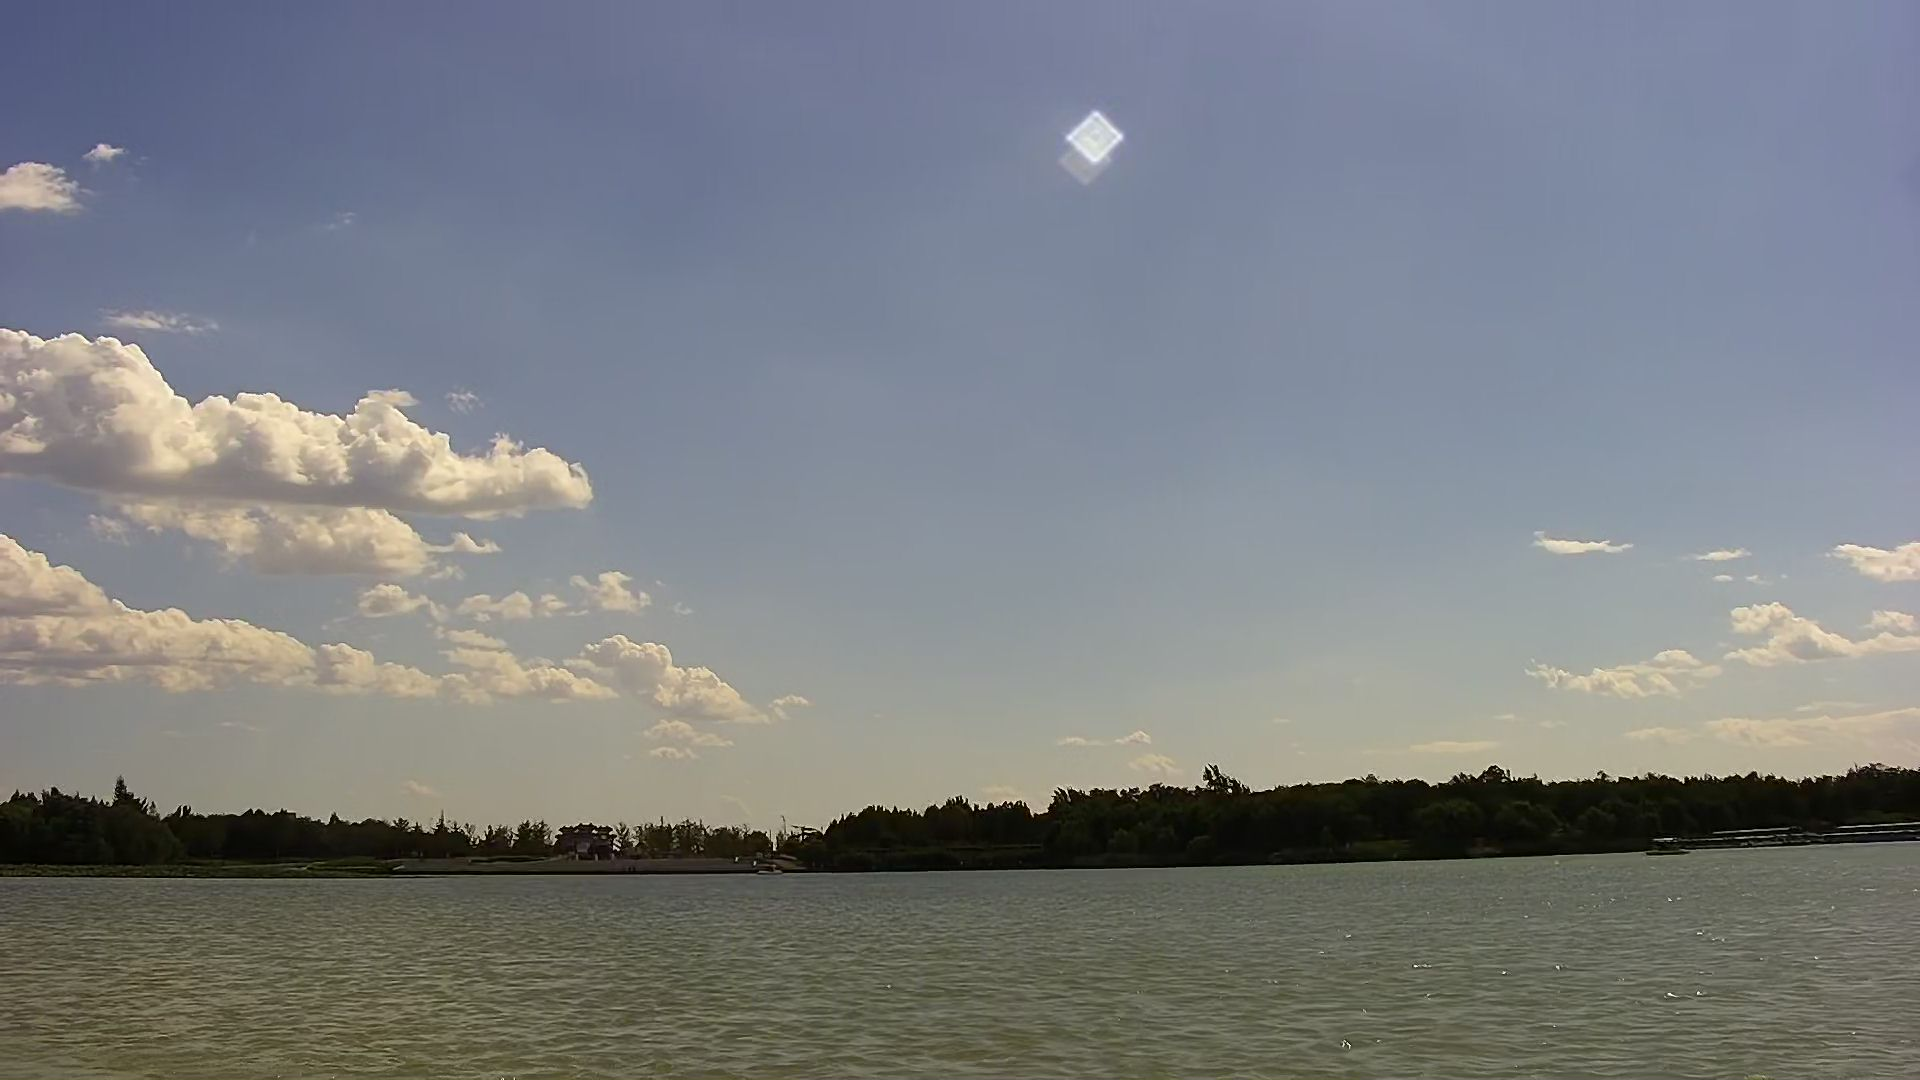boat: (1644, 829, 1679, 858)
harbor: (1700, 818, 1915, 845)
